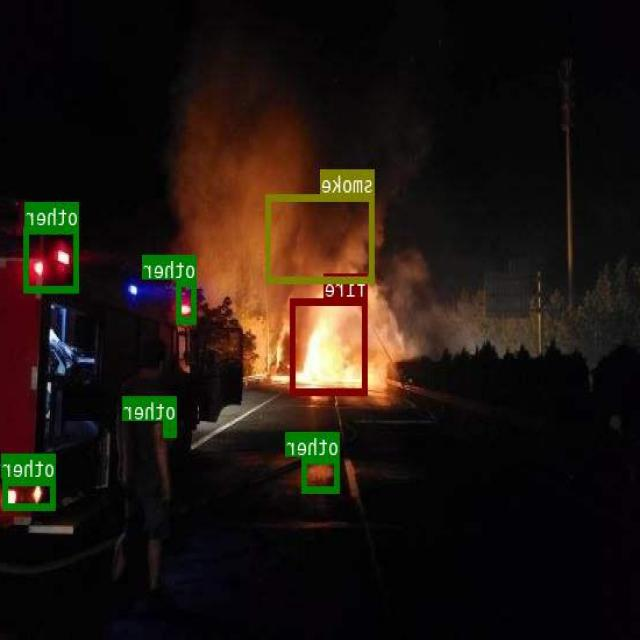fire: (292, 298, 368, 394)
other: (25, 226, 80, 291), (4, 478, 57, 508), (303, 456, 340, 492), (177, 280, 197, 322), (165, 421, 178, 436)
smoke: (267, 194, 375, 281)
